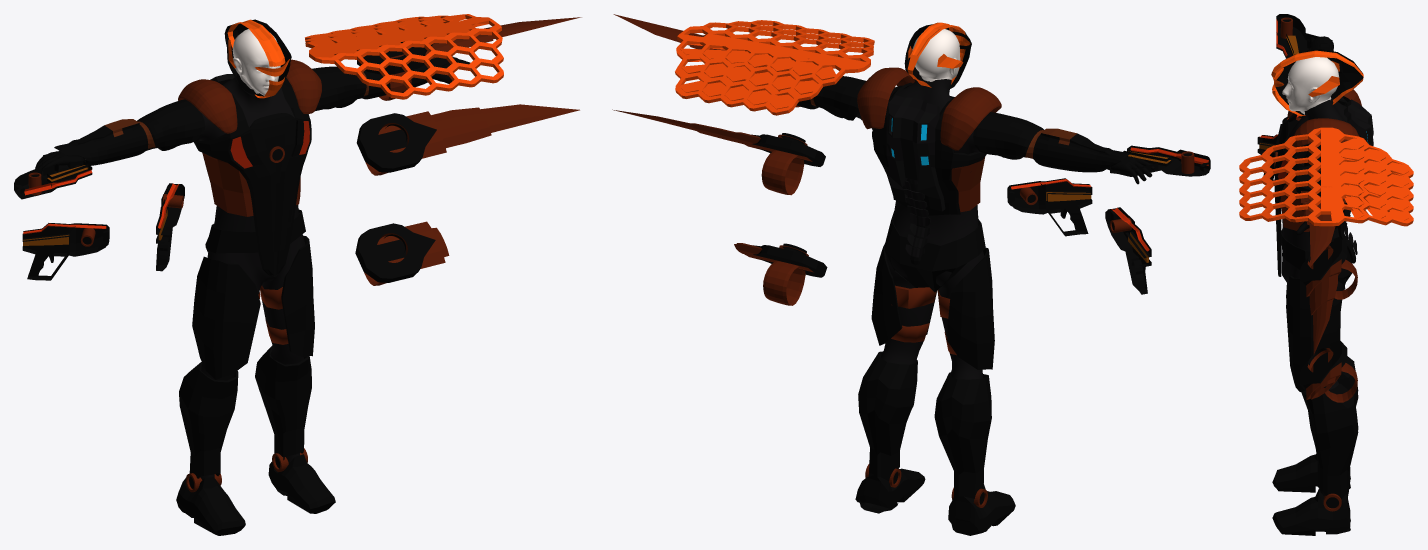
File: uploads_files_2986407_v2.obj
3 renders of one model, left to right at view 1: azimuth 30°, elevation 25°; view 2: azimuth 150°, elevation 25°; view 3: azimuth 270°, elevation 25°, orthographic. The views are drawn at different scales.
Parts seen in each view (by area): view 1: Kostka.029_Kostka.046, Walec.013_Walec.004, Kostka.025, Kostka.030_Kostka.032, Body_low.001_body_low.002, Prostokąt.030_Prostokąt.031, Kostka.043_Kostka.039, Kostka.047_Kostka.048, Walec.028_Walec.015, Kostka.028_Kostka.030, Prostokąt.008_Prostokąt, Prostokąt.028 (+14 smaller); view 2: Kostka.029_Kostka.046, Walec.013_Walec.004, Body_low.001_body_low.002, Kostka.024, Prostokąt.030_Prostokąt.031, Kostka.030_Kostka.032, Prostokąt.027, Walec.031_Walec.019, Kostka.025, Kostka.047_Kostka.048, Kostka.043_Kostka.039, Prostokąt.032 (+10 smaller); view 3: Walec.013_Walec.004, Kostka.029_Kostka.046, Kostka.028_Kostka.030, Prostokąt.028, Body_low_body_low.001, Body_low.001_body_low.002, Kostka.047_Kostka.048, Kostka.043_Kostka.039, Kostka.025, Walec.030_Walec.018, Kostka.024, Prostokąt.004_Prostokąt.001 (+13 smaller).
Part boxes in pixels (box(x1,y1,x2,y2)): Kostka.029_Kostka.046: box(176, 346, 335, 535); Walec.013_Walec.004: box(305, 14, 503, 99); Kostka.025: box(194, 78, 311, 277); Kostka.030_Kostka.032: box(192, 256, 260, 379); Body_low.001_body_low.002: box(85, 73, 366, 479); Prostokąt.030_Prostokąt.031: box(54, 99, 205, 165); Kostka.043_Kostka.039: box(356, 113, 436, 175); Kostka.047_Kostka.048: box(355, 223, 435, 285); Walec.028_Walec.015: box(22, 223, 109, 280); Kostka.028_Kostka.030: box(281, 235, 314, 357); Prostokąt.008_Prostokąt: box(312, 57, 448, 109); Prostokąt.028: box(224, 19, 291, 98); Kostka.029_Kostka.046: box(855, 351, 1015, 535); Walec.013_Walec.004: box(675, 20, 874, 115); Body_low.001_body_low.002: box(856, 72, 991, 379); Kostka.024: box(886, 95, 945, 211); Prostokąt.030_Prostokąt.031: box(973, 112, 1129, 172); Kostka.030_Kostka.032: box(947, 247, 994, 369); Prostokąt.027: box(884, 211, 985, 292); Walec.031_Walec.019: box(1007, 178, 1092, 236); Kostka.025: box(872, 82, 986, 215); Kostka.047_Kostka.048: box(753, 243, 827, 305); Kostka.043_Kostka.039: box(751, 133, 825, 195); Prostokąt.032: box(940, 87, 1001, 150); Walec.013_Walec.004: box(1239, 127, 1413, 226); Kostka.029_Kostka.046: box(1272, 356, 1358, 535); Kostka.028_Kostka.030: box(1286, 276, 1342, 391); Prostokąt.028: box(1271, 49, 1363, 116); Body_low_body_low.001: box(1282, 57, 1339, 114); Body_low.001_body_low.002: box(1281, 96, 1347, 500); Kostka.047_Kostka.048: box(1300, 340, 1357, 402); Kostka.043_Kostka.039: box(1300, 236, 1357, 299); Kostka.025: box(1274, 99, 1360, 276); Walec.030_Walec.018: box(1276, 14, 1332, 58); Kostka.024: box(1344, 99, 1373, 216); Prostokąt.004_Prostokąt.001: box(1287, 118, 1359, 150).
Bounding box in the file's own units: 23.95 × 19.09 × 6.63.
